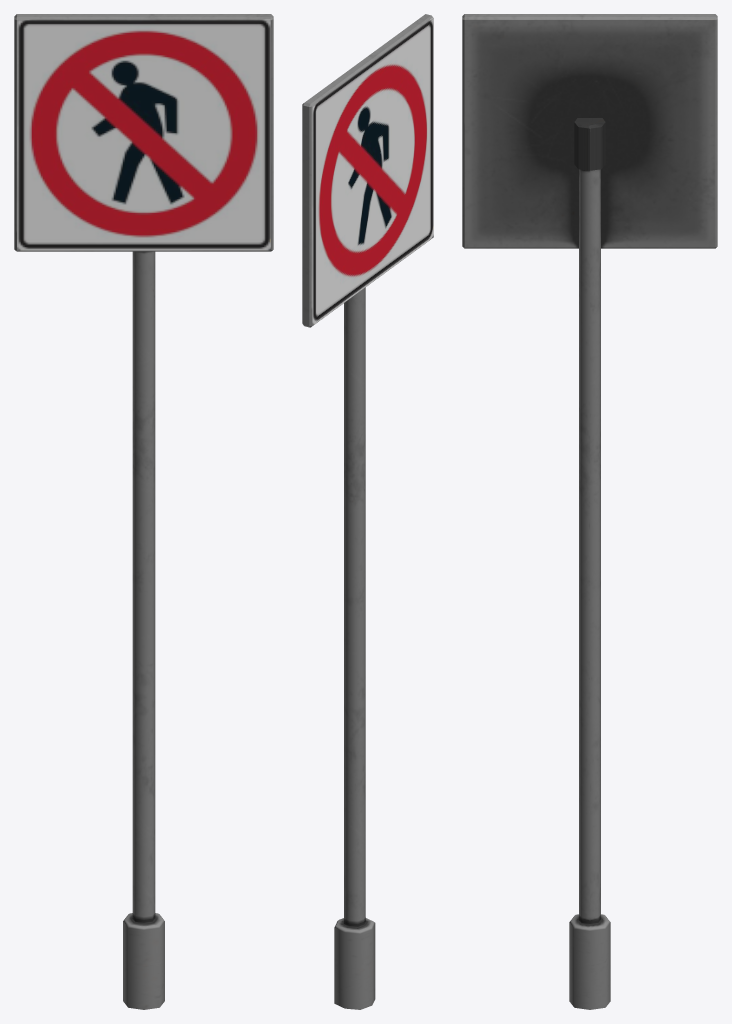
File: SM_Sign4.fbx
3 views of the same model, side by side, from view 1: azimuth 90°, elevation 25°; view 2: azimuth 150°, elevation 25°; view 3: azimuth 270°, elevation 25° (orthographic). The views are drawn at different scales.
Visible parts, largest first — view 1: SM_Sign4_LOD0; view 2: SM_Sign4_LOD0; view 3: SM_Sign4_LOD0.
Boxes of the visible parts, x1,y1,x2,y2 form: SM_Sign4_LOD0: [14, 14, 273, 1009]; SM_Sign4_LOD0: [302, 14, 433, 1009]; SM_Sign4_LOD0: [462, 14, 717, 1009].
Bounding box in the file's own units: 11.34 × 68.45 × 289.
1 material, 1 textured.
